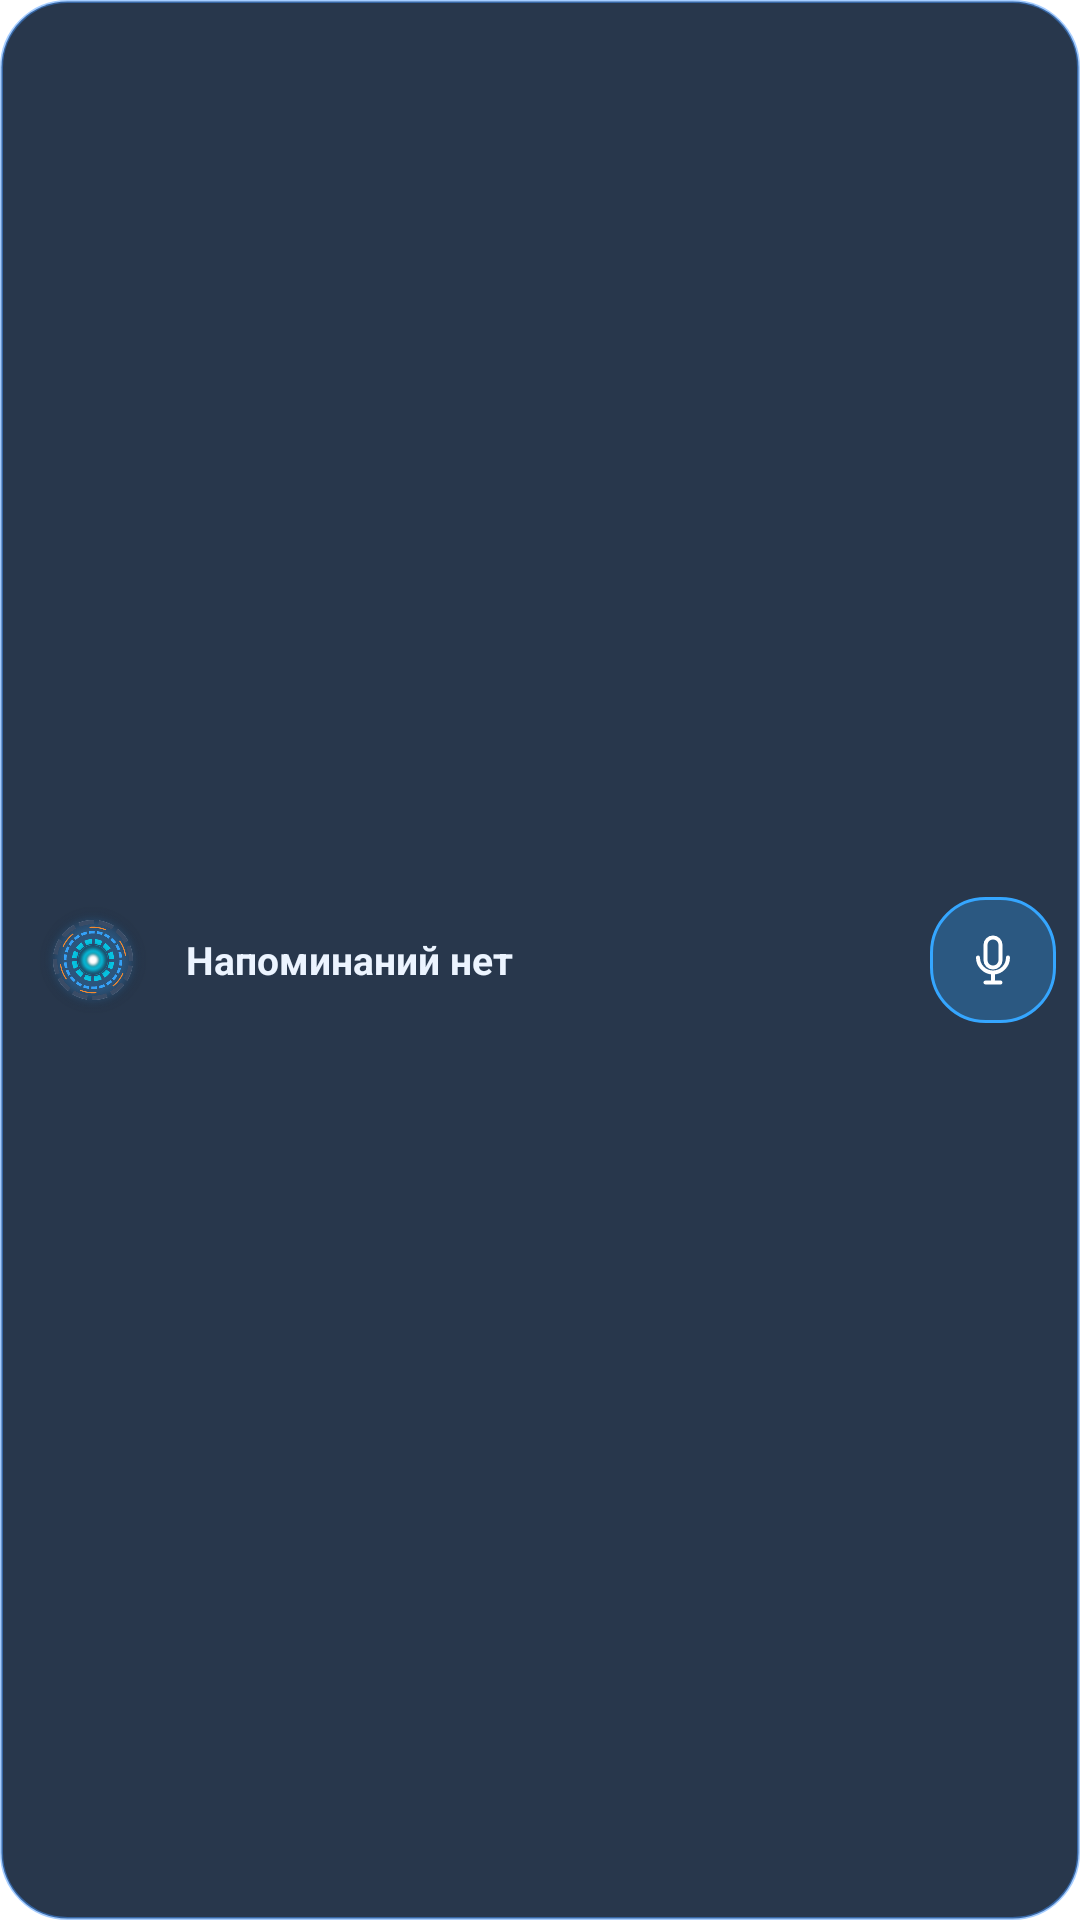

Where icons sit on this 1080x1920 app screen, as (x1, y1, x2, y2):
Говорить: (976, 935, 1010, 985)
